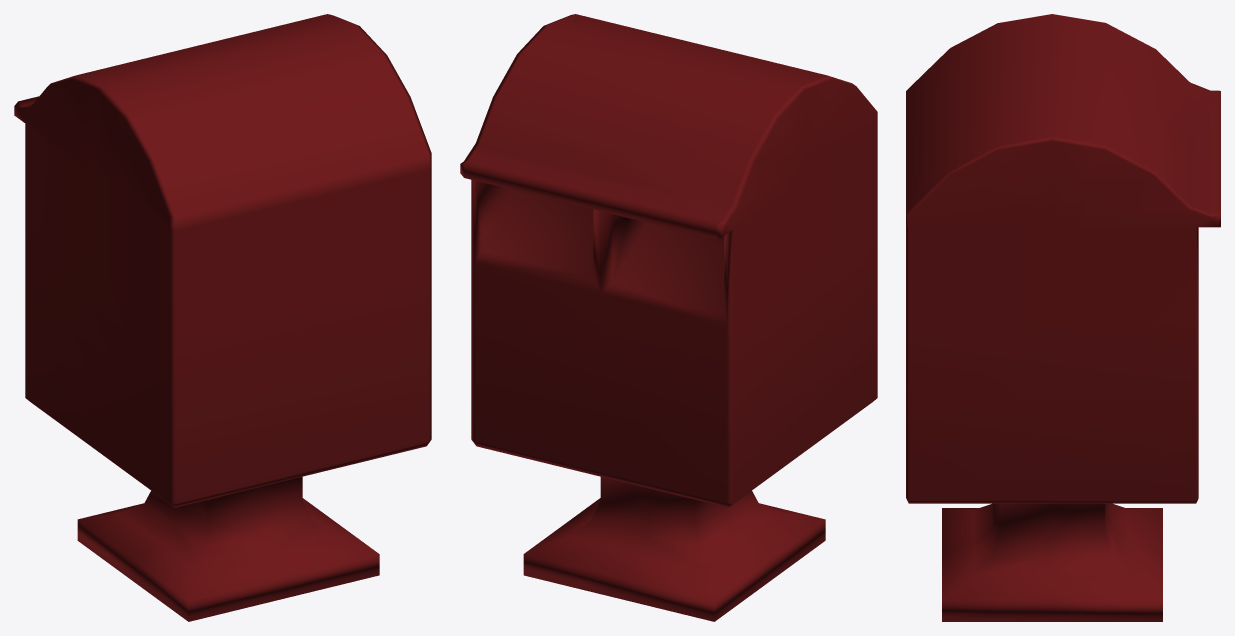
File: CNJ_MailBox_SM 1.fbx
3 views of the same model, side by side, from view 1: azimuth 30°, elevation 25°; view 2: azimuth 150°, elevation 25°; view 3: azimuth 270°, elevation 25° (orthographic).
Visible parts, largest first — view 1: CNJ_MailBox_SM; view 2: CNJ_MailBox_SM; view 3: CNJ_MailBox_SM.
Part boxes in pixels (x1,y1,x2,y2): CNJ_MailBox_SM: [14, 14, 431, 621]; CNJ_MailBox_SM: [460, 14, 877, 621]; CNJ_MailBox_SM: [906, 14, 1220, 621].
Size of the model in its own units: 73.55 by 135 by 76.79.
